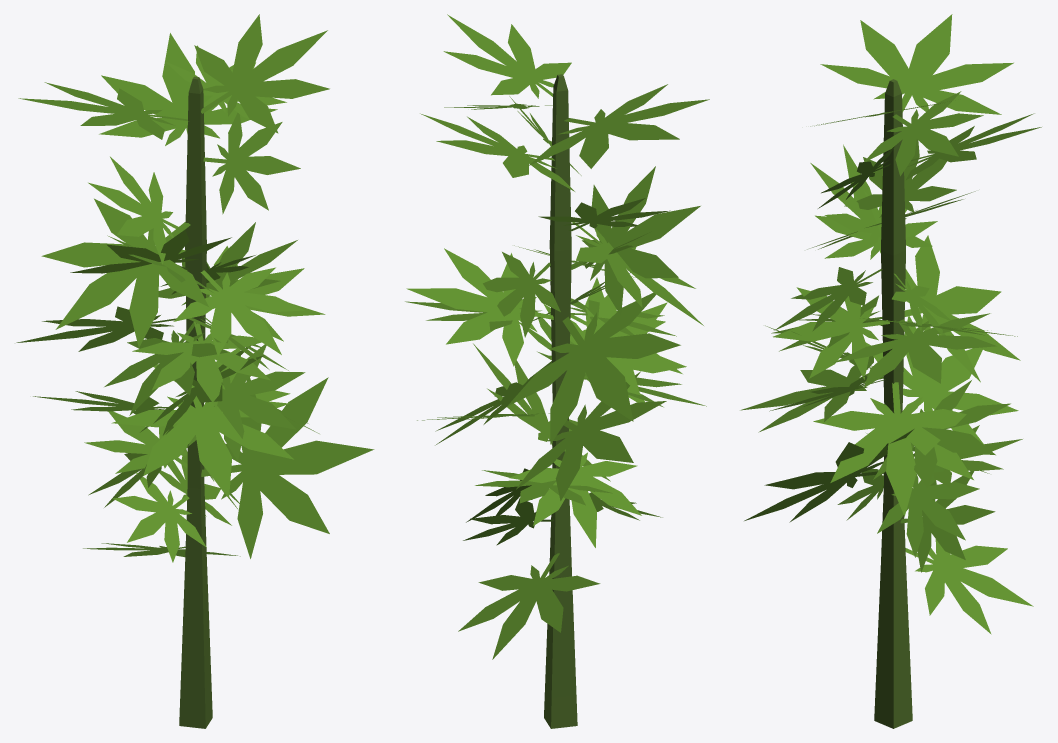
The model's file is Suspicious Plant.glb.
3 renders of one model, left to right at view 1: azimuth 30°, elevation 25°; view 2: azimuth 150°, elevation 25°; view 3: azimuth 270°, elevation 25°, orthographic.
Visible parts, largest first — view 1: Suspicious Plant_Merged; view 2: Suspicious Plant_Merged; view 3: Suspicious Plant_Merged.
Part boxes in pixels (bbox=[...]): Suspicious Plant_Merged: bbox=[16, 14, 374, 728]; Suspicious Plant_Merged: bbox=[405, 14, 709, 728]; Suspicious Plant_Merged: bbox=[740, 14, 1041, 728].
Bounding box in the file's own units: 1.4 × 3.18 × 1.32.
